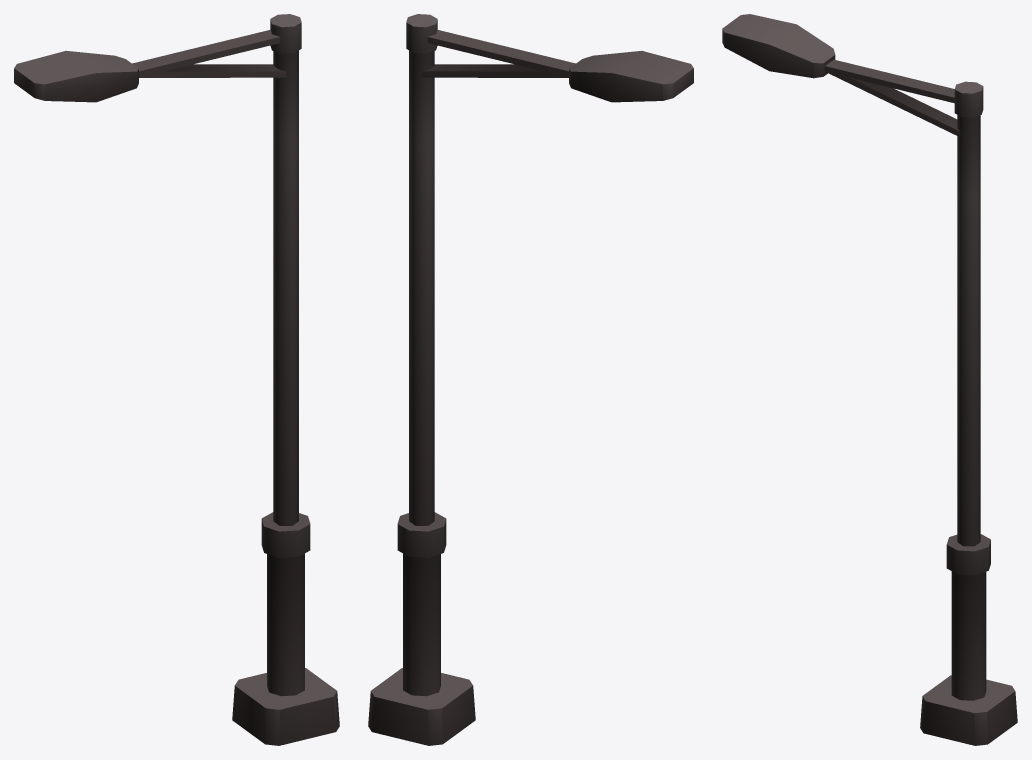
File: Streetlight_5A.fbx
The picture shows the model from 3 angles, left to right: view 1: azimuth 30°, elevation 25°; view 2: azimuth 150°, elevation 25°; view 3: azimuth 330°, elevation 25°; orthographic projection. The views are drawn at different scales.
Parts seen in each view (by area): view 1: Streetlight_5A; view 2: Streetlight_5A; view 3: Streetlight_5A.
Boxes of the visible parts, x1=… form: Streetlight_5A: x1=14, y1=14, x2=339, y2=745; Streetlight_5A: x1=368, y1=14, x2=693, y2=745; Streetlight_5A: x1=722, y1=14, x2=1017, y2=745.
Bounding box in the file's own units: 356 × 810 × 89.04.
